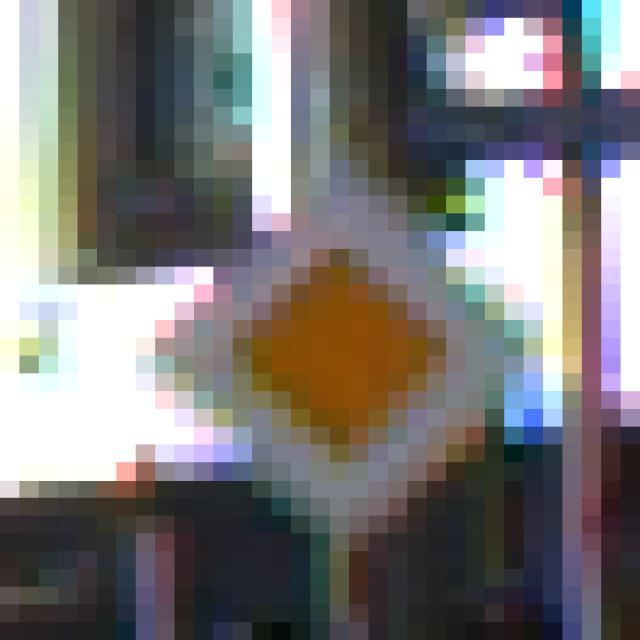Main Road: (117, 108, 544, 552)
